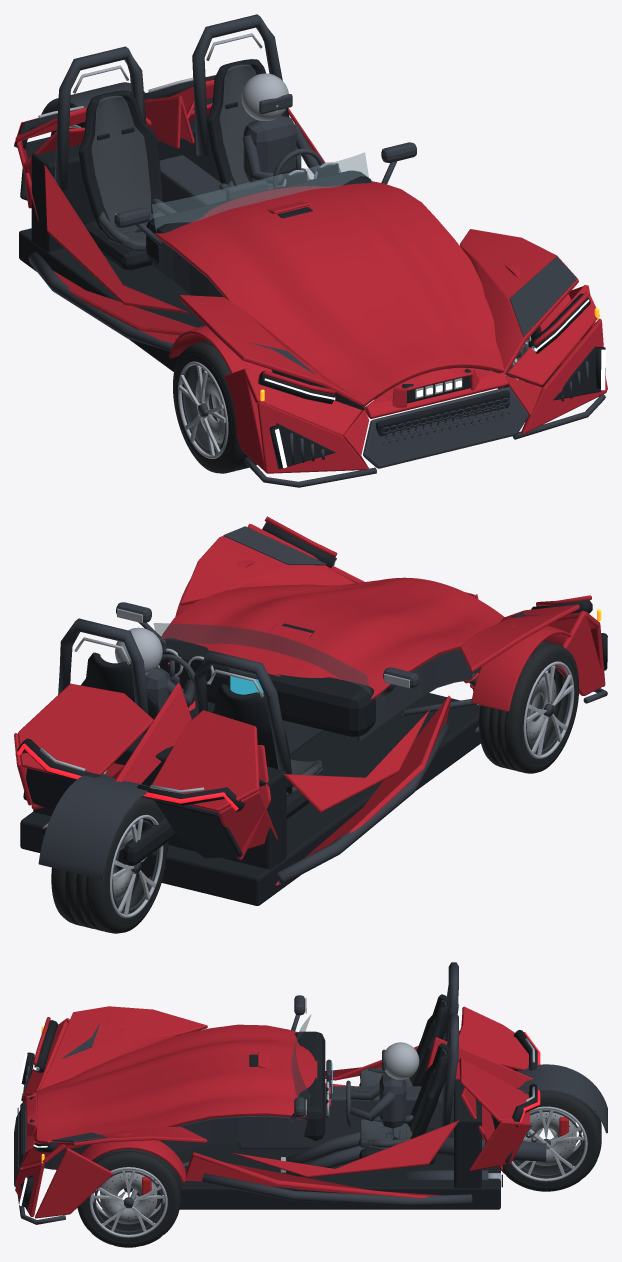
Rendered from slingshot-r-hero.glb.
3 renders of one model, top to bottom at view 1: azimuth 30°, elevation 25°; view 2: azimuth 150°, elevation 25°; view 3: azimuth 270°, elevation 25°, orthographic. The views are drawn at different scales.
Visible parts, largest first — view 1: Body_BodyPaint, Body_Graphite, Body_TexturedTrim, Body_Upholstery, Windscreen, Wheel_0_TireRubber, Rider_Graphite, Rim_0_-1_WheelFinish, Helmet, Body_MachinedAlloy, Body_FrontLamp, Wheel_0_BrakeSteel; view 2: Body_BodyPaint, Body_TexturedTrim, Body_Graphite, Wheel_0_TireRubber, Wheel_2_TireRubber, Windscreen, Rim_0_-1_WheelFinish, Body_MachinedAlloy, Rim_2_-1_WheelFinish, Helmet, Rider_Graphite, Wheel_0_BrakeSteel (+2 smaller); view 3: Body_BodyPaint, Body_TexturedTrim, Body_Graphite, Wheel_1_TireRubber, Rider_Graphite, Wheel_2_TireRubber, Body_Upholstery, Wheel_1_BrakeSteel, Rim_1_1_WheelFinish, Rim_2_1_WheelFinish, Wheel_2_BrakeSteel, Helmet (+3 smaller).
Part boxes in pixels (box(x1,y1,x2,y2)): Body_BodyPaint: box(15, 80, 607, 473); Body_Graphite: box(28, 14, 605, 487); Body_TexturedTrim: box(14, 59, 605, 469); Body_Upholstery: box(91, 64, 282, 250); Windscreen: box(152, 152, 368, 231); Wheel_0_TireRubber: box(173, 341, 256, 473); Rider_Graphite: box(243, 94, 319, 185); Rim_0_-1_WheelFinish: box(178, 361, 228, 458); Helmet: box(241, 73, 288, 120); Body_MachinedAlloy: box(38, 33, 536, 398); Body_FrontLamp: box(264, 299, 605, 468); Wheel_0_BrakeSteel: box(195, 373, 225, 443); Body_BodyPaint: box(14, 516, 605, 885); Body_TexturedTrim: box(15, 522, 607, 905); Body_Graphite: box(38, 526, 607, 884); Wheel_0_TireRubber: box(479, 641, 579, 773); Wheel_2_TireRubber: box(51, 797, 168, 933); Windscreen: box(153, 623, 370, 695); Rim_0_-1_WheelFinish: box(523, 661, 574, 758); Body_MachinedAlloy: box(40, 559, 409, 793); Rim_2_-1_WheelFinish: box(110, 814, 163, 918); Helmet: box(115, 627, 162, 674); Rider_Graphite: box(145, 638, 194, 710); Wheel_0_BrakeSteel: box(527, 673, 556, 743); Body_BodyPaint: box(15, 1006, 532, 1218); Body_TexturedTrim: box(20, 994, 537, 1209); Body_Graphite: box(14, 962, 607, 1224); Wheel_1_TireRubber: box(77, 1149, 180, 1247); Rider_Graphite: box(287, 1049, 406, 1176); Wheel_2_TireRubber: box(493, 1090, 601, 1191); Body_Upholstery: box(360, 1000, 446, 1150); Wheel_1_BrakeSteel: box(100, 1169, 157, 1224); Rim_1_1_WheelFinish: box(89, 1167, 167, 1237); Rim_2_1_WheelFinish: box(511, 1106, 587, 1181); Wheel_2_BrakeSteel: box(523, 1109, 576, 1165); Helmet: box(383, 1042, 419, 1079).
Bounding box in the file's own units: 2.01 × 1.32 × 3.79.
